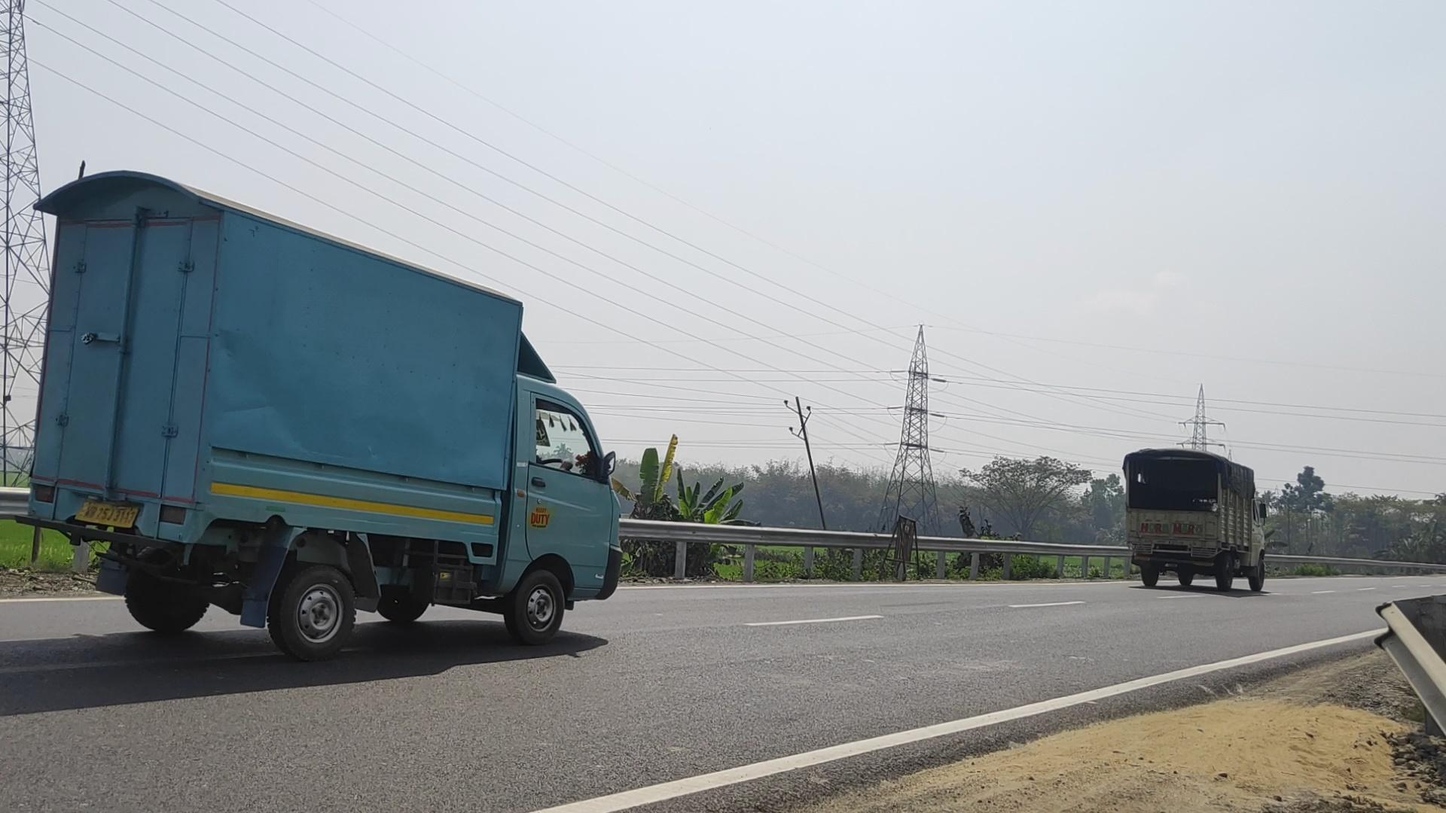van: (18, 168, 623, 661), (1122, 447, 1267, 592)
